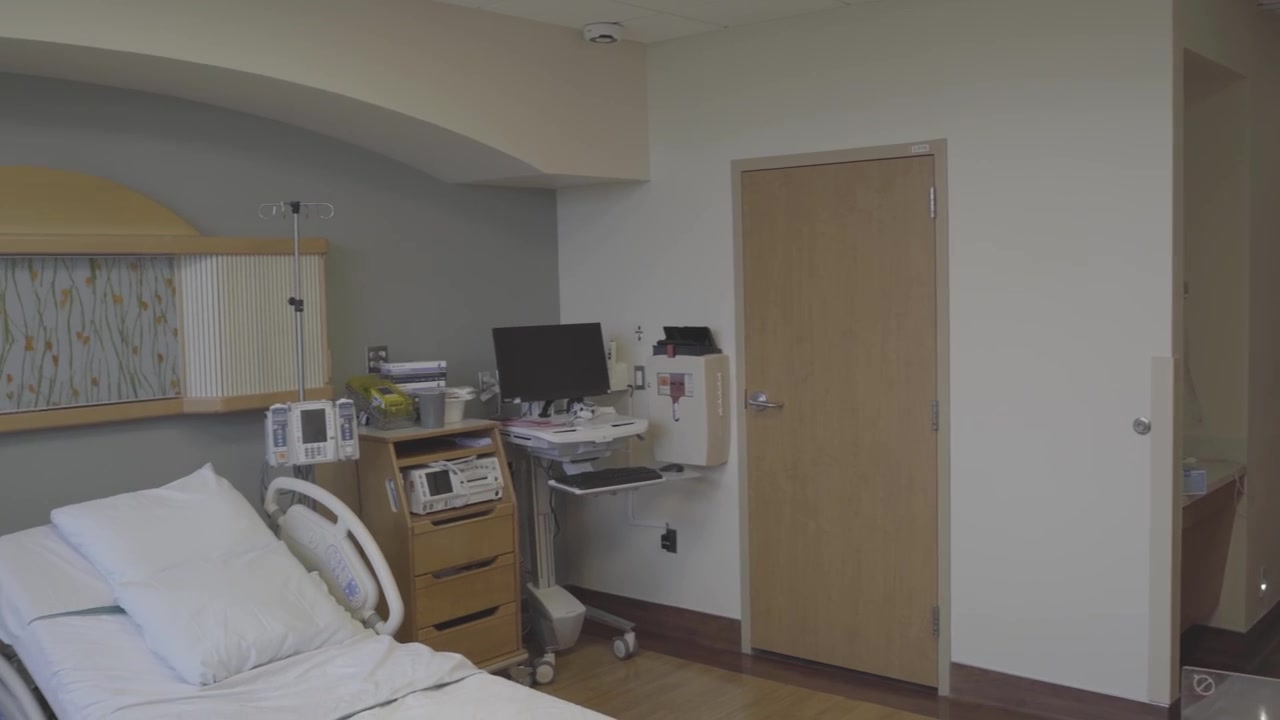bedrail: (263, 473, 408, 639)
computer: (488, 319, 613, 404)
countertop: (1184, 454, 1249, 517)
dispenser: (644, 347, 732, 467)
door_handle: (748, 397, 784, 412)
hospital_bed: (1, 464, 622, 720)
infusion_pump: (263, 398, 360, 468)
iv_pole: (258, 198, 338, 400)
keyboard: (555, 466, 663, 492)
medical_drawer: (311, 416, 537, 688)
mouse: (659, 462, 685, 474)
